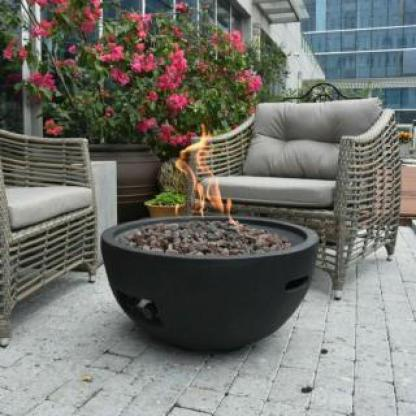Fire: (178, 120, 243, 228)
